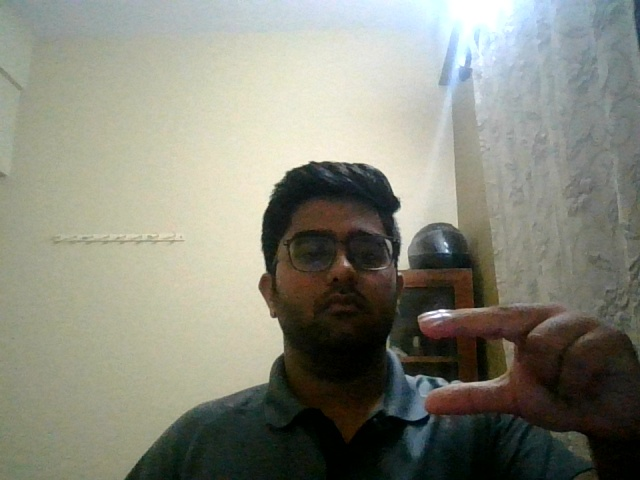No: (408, 283, 640, 446)
